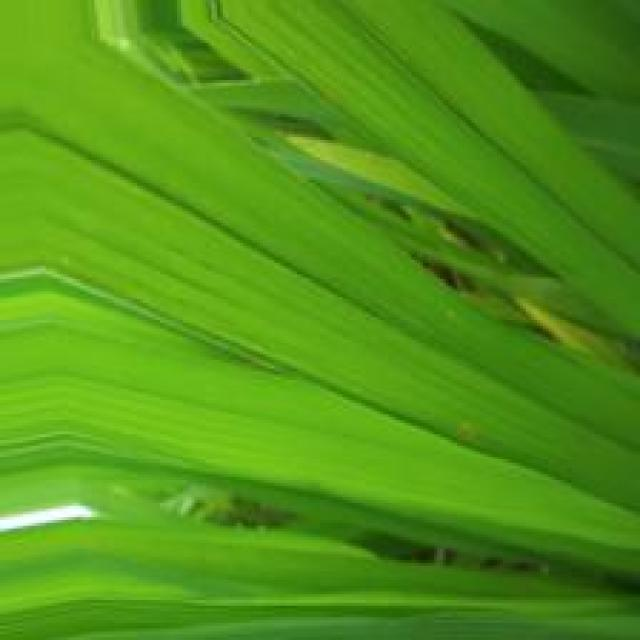HealthyLeaf: (0, 0, 640, 574)
